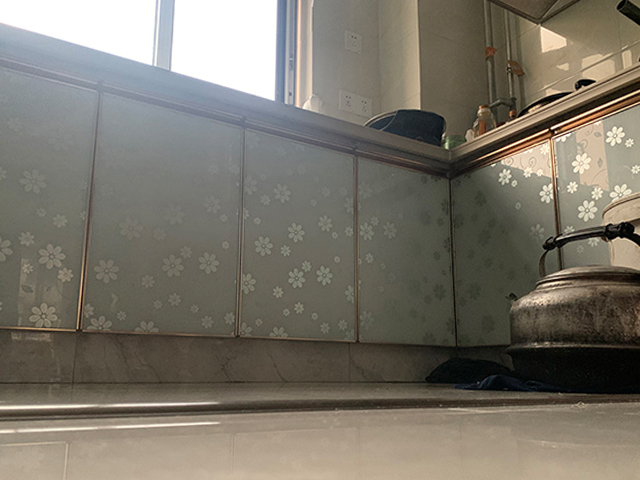cabinet: (1, 41, 454, 384)
